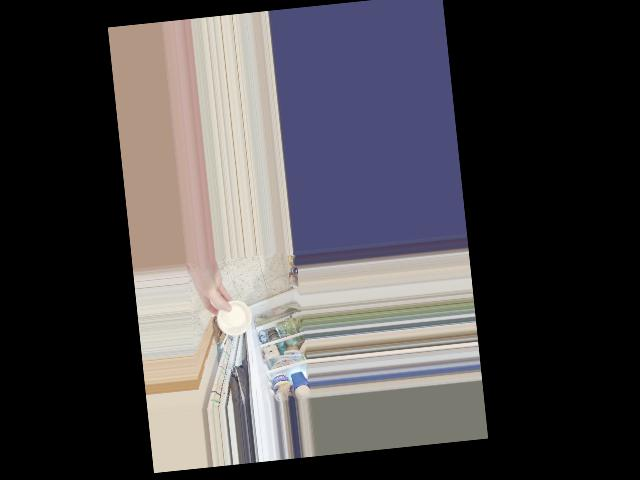cotage: (211, 298, 250, 337)
